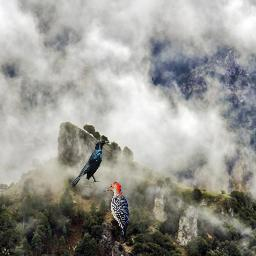Crow: (70, 140, 110, 187)
Woodpecker: (103, 182, 129, 240)
